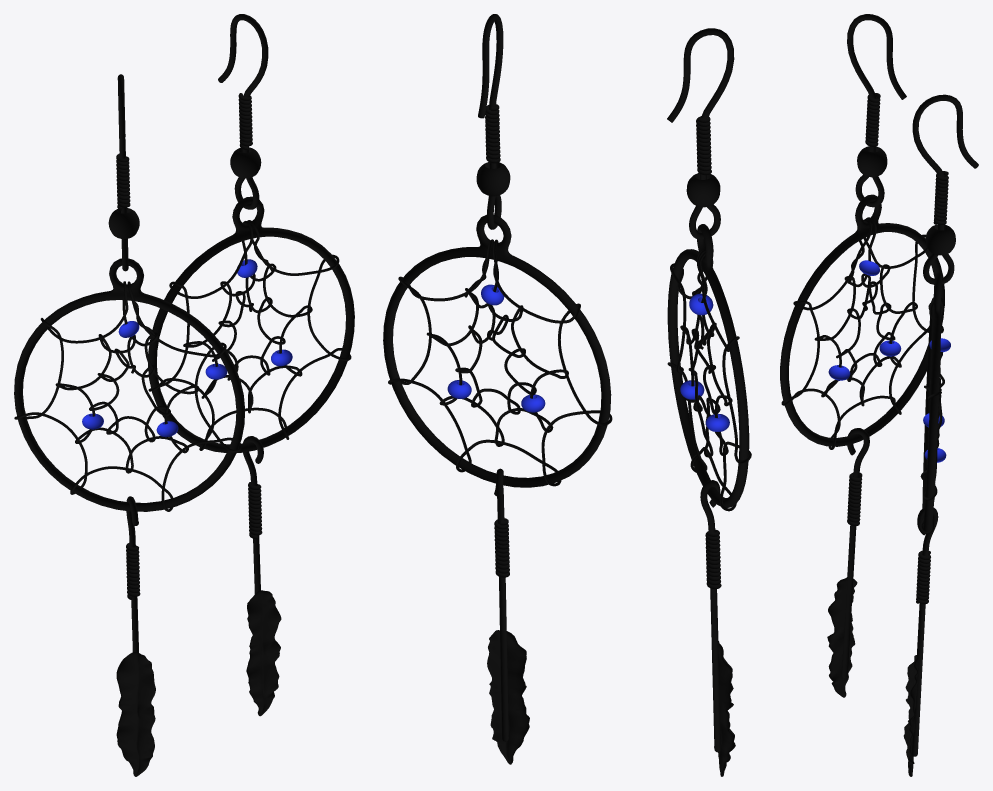
3 views of the same model, side by side, from view 1: azimuth 30°, elevation 25°; view 2: azimuth 150°, elevation 25°; view 3: azimuth 270°, elevation 25° (orthographic). The views are drawn at different scales.
Parts seen in each view (by area): view 1: 11762_Earrings_v1_l2; view 2: 11762_Earrings_v1_l2; view 3: 11762_Earrings_v1_l2.
Part boxes in pixels (x1,y1,x2,y2): 11762_Earrings_v1_l2: (14,14,354,776); 11762_Earrings_v1_l2: (383,14,751,776); 11762_Earrings_v1_l2: (780,14,978,776).
Size of the model in its own units: 1.57 by 3.09 by 0.8118.
